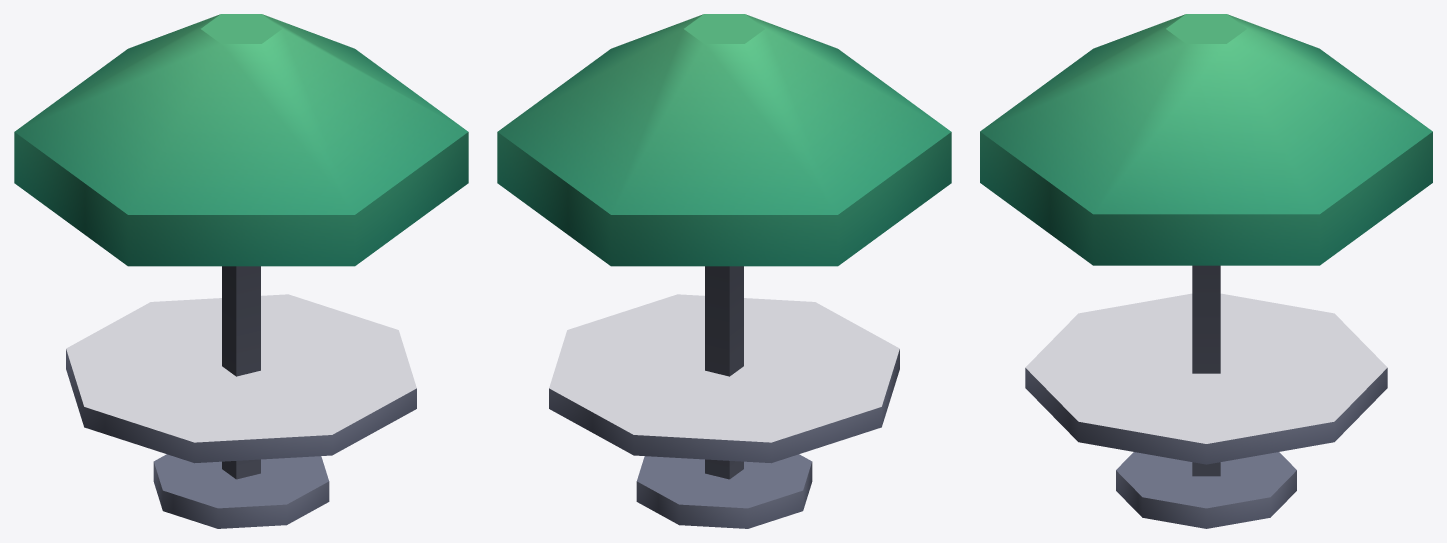
Rendered from parasol_0.fbx.
3 views of the same model, side by side, from view 1: azimuth 30°, elevation 25°; view 2: azimuth 150°, elevation 25°; view 3: azimuth 270°, elevation 25° (orthographic).
Parts seen in each view (by area): view 1: parasol_0; view 2: parasol_0; view 3: parasol_0.
Boxes of the visible parts, left/top/right/bottom form: parasol_0: left=14, top=14, right=468, bottom=528; parasol_0: left=497, top=14, right=951, bottom=528; parasol_0: left=980, top=14, right=1432, bottom=528.
Size of the model in its own units: 0.3464 by 0.45 by 0.4.
1 material, 1 textured.
